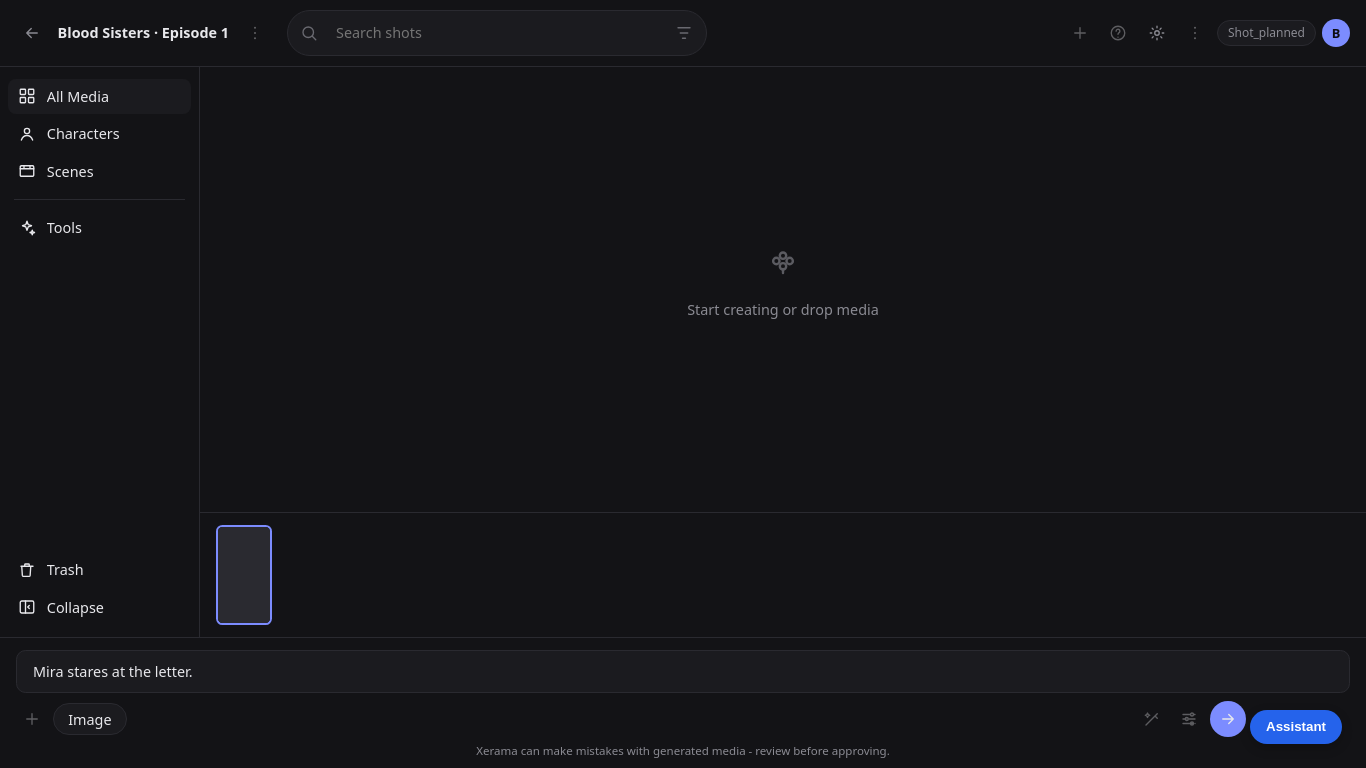
Scenario: Production Studio (Flow-style redesign) › renders the episode title, character ingredients, and the shot inspector
Check: the text "Blood Sisters · Episode 1" is shown, box [58, 23, 229, 42]
Click the button "Characters" at (100, 134), box [8, 116, 191, 151]
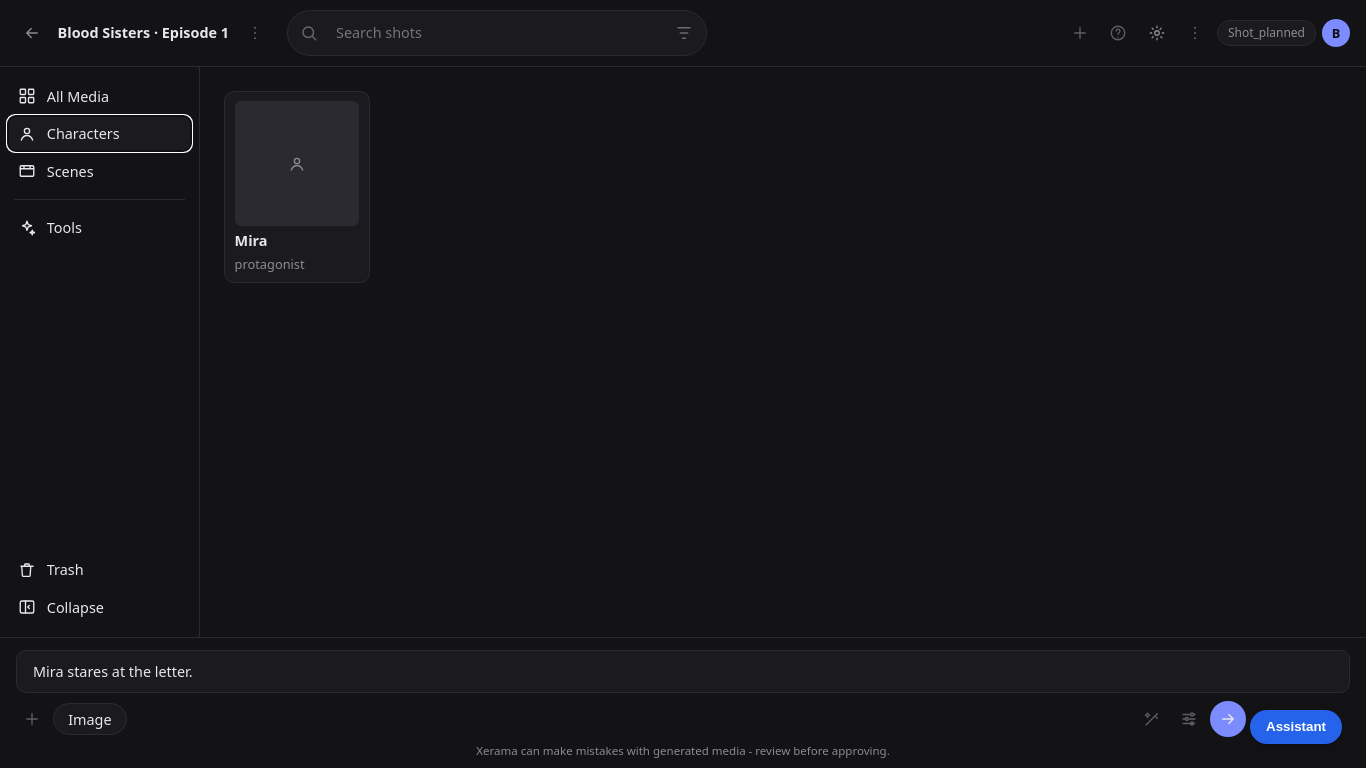
Check: the text "Mira" is shown, box [235, 231, 268, 250]
Click the button "Tools" at (100, 228), box [8, 210, 191, 245]
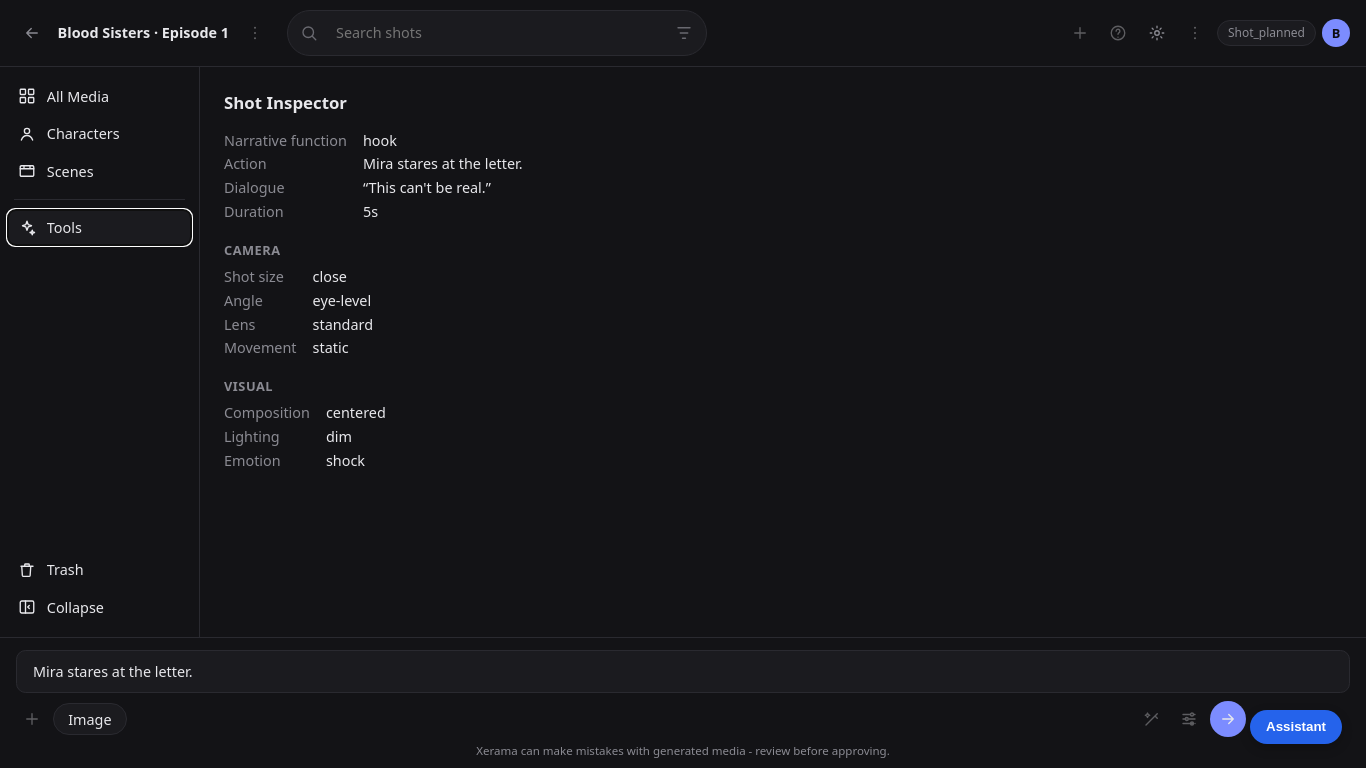
Check: the text "hook" is shown, box [363, 131, 397, 150]
Check: the text "close" is shown, box [313, 267, 347, 286]
